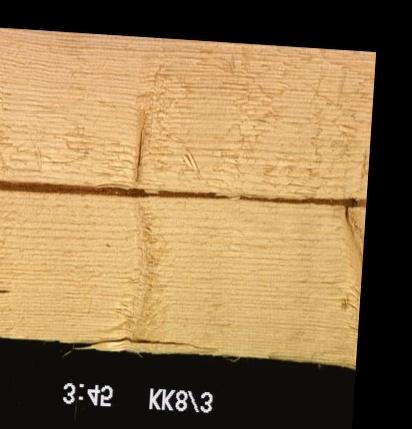split: (72, 335, 219, 354)
